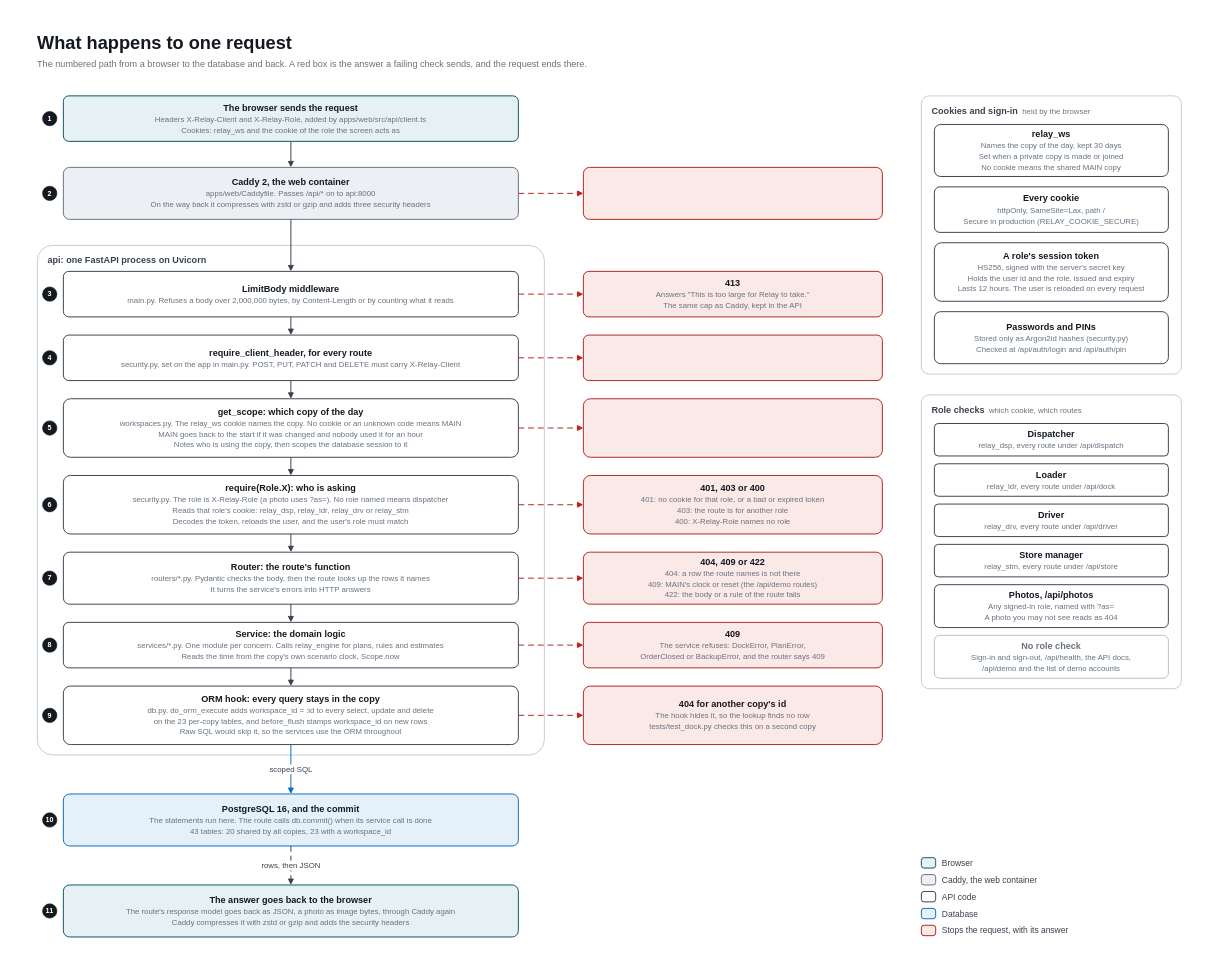
Image size: 1218x974. Some labels were removed from this diagram. The shapes that lost their labels are listed below. From the top down, each one's centre as x and y in pixels, then its label:
At (733,193): "413 A request body over 2 MB on /api is turned away before the API reads it".
At (733,357): "403 Missing client header A cross-site form or image cannot send a custom header".
At (733,427): "503 The database has not been seeded yet There is no MAIN copy to fall back to".
